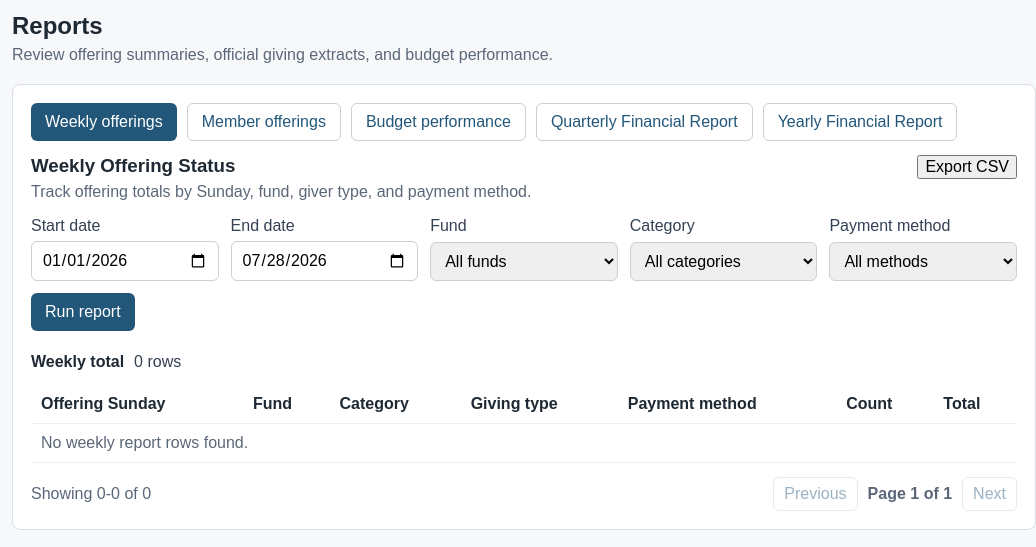
it: ReportsView › keeps yearly downloads independent and shows generation failures
Click the tab "Yearly Financial Report".
click(860, 122)  # box [763, 103, 957, 141]
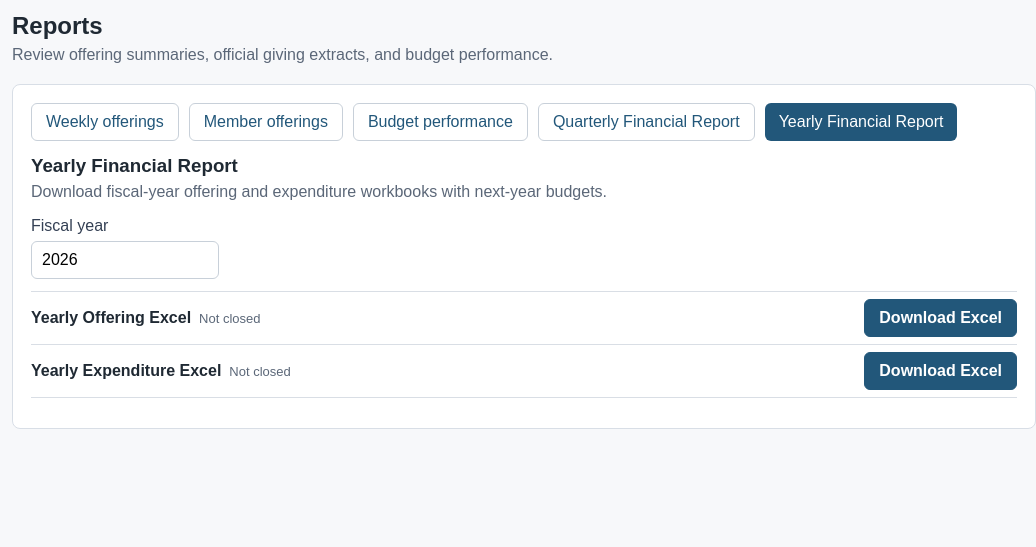
Click the button with aria-label "download yearly offering excel".
click(941, 318)  # box [864, 299, 1017, 337]
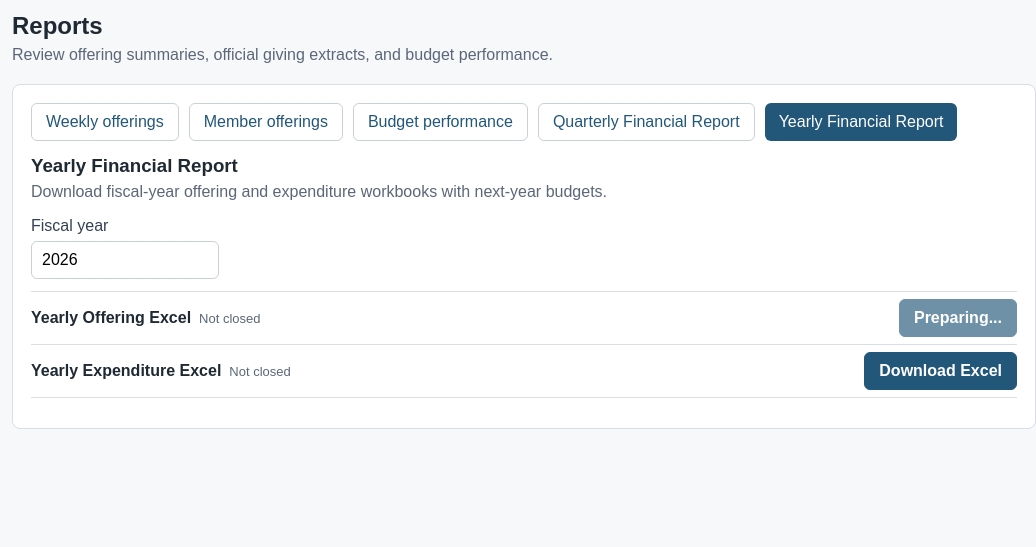
Check: the button with aria-label "download yearly expenditure excel" is enabled
Check: the button with aria-label "download yearly offering excel" is disabled, box [899, 299, 1017, 337]
Click the button with aria-label "download yearly expenditure excel".
click(941, 371)  # box [864, 352, 1017, 390]
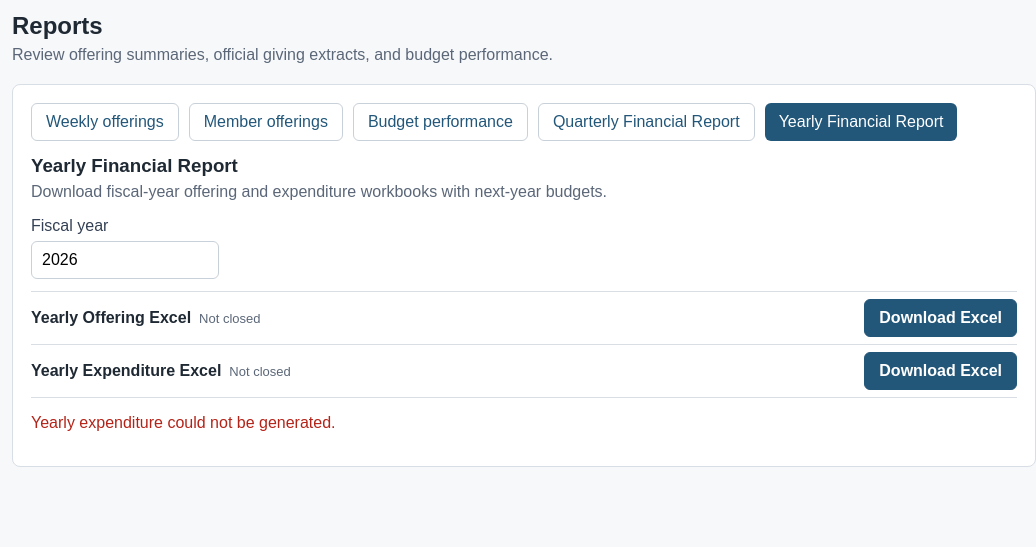
Check: the text "Yearly expenditure could not be generated." is shown, box [31, 414, 336, 431]
Check: the button with aria-label "download yearly offering excel" is enabled, box [864, 299, 1017, 337]
